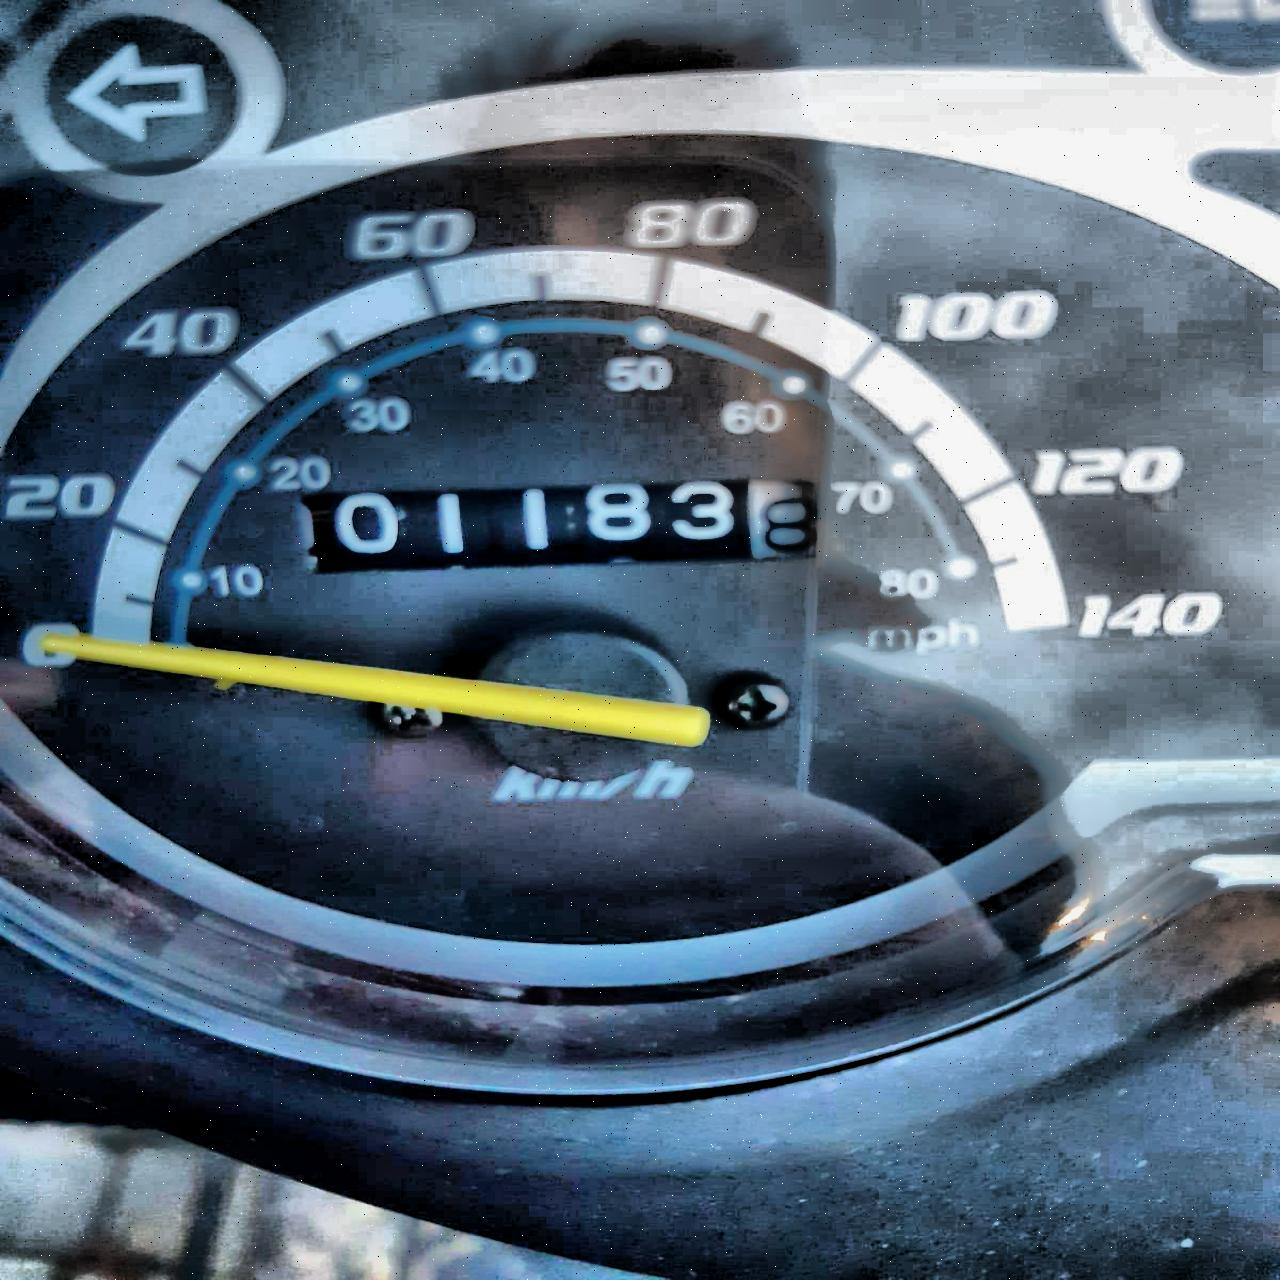0: (334, 485, 408, 564)
1: (421, 485, 474, 559), (509, 481, 557, 561)
3: (667, 482, 741, 552)
8: (763, 492, 822, 567), (584, 483, 648, 546)
odometer: (300, 477, 836, 588)
